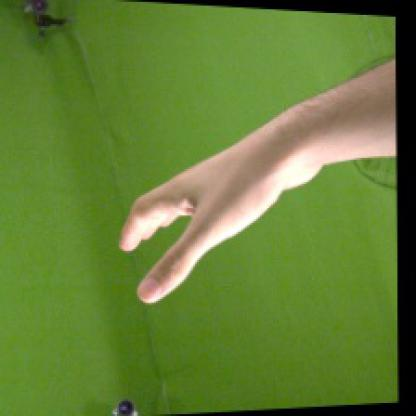Hand: (120, 128, 320, 303)
